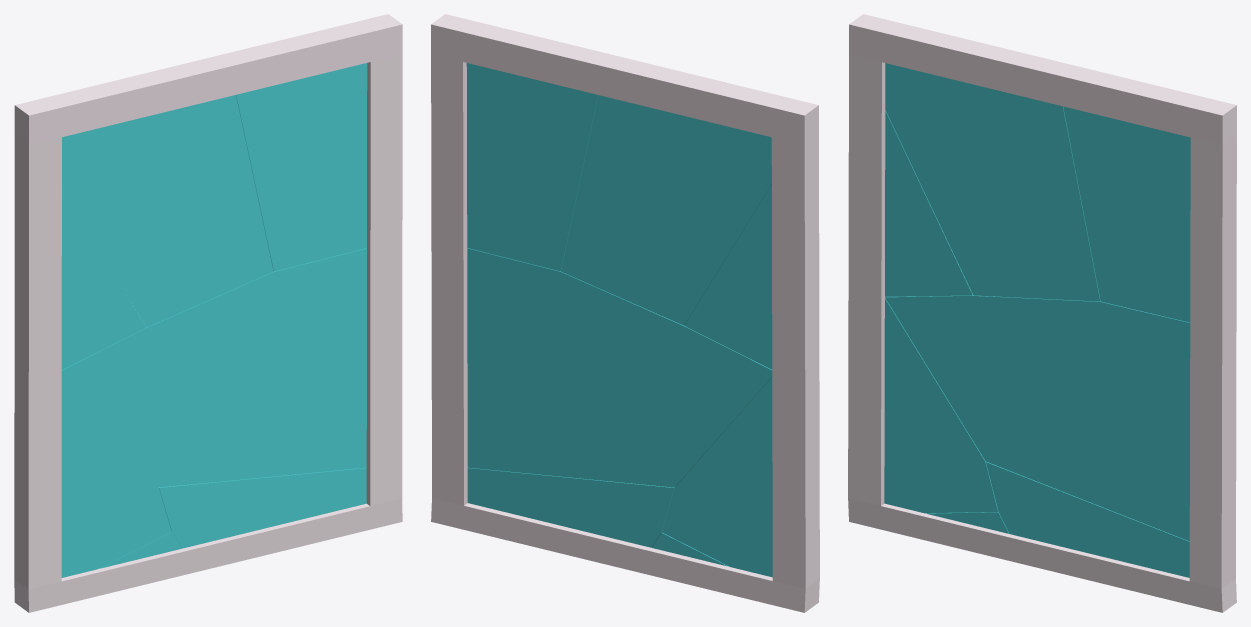
File: WallFullWindolfbx.fbx
The picture shows the model from 3 angles, left to right: view 1: azimuth 30°, elevation 25°; view 2: azimuth 150°, elevation 25°; view 3: azimuth 330°, elevation 25°; orthographic projection.
Parts seen in each view (by area): view 1: Cube, Cube.002_cell.003, Cube.002_cell, Cube.002_cell.001, Cube.002_cell.005, Cube.002_cell.006, Cube.002_cell.004, Cube.002_cell.002; view 2: Cube, Cube.002_cell.003, Cube.002_cell, Cube.002_cell.001, Cube.002_cell.005, Cube.002_cell.006, Cube.002_cell.004, Cube.002_cell.002; view 3: Cube, Cube.002_cell.003, Cube.002_cell, Cube.002_cell.001, Cube.002_cell.005, Cube.002_cell.006, Cube.002_cell.004, Cube.002_cell.002.
Part boxes in pixels (<box>): Cube: <box>14,14,402,612</box>; Cube.002_cell.003: <box>61,248,366,487</box>; Cube.002_cell: <box>62,95,273,327</box>; Cube.002_cell.001: <box>236,63,367,271</box>; Cube.002_cell.005: <box>61,377,171,577</box>; Cube.002_cell.006: <box>158,467,366,548</box>; Cube.002_cell.004: <box>61,191,145,369</box>; Cube.002_cell.002: <box>100,532,182,568</box>; Cube: <box>431,14,819,612</box>; Cube.002_cell.003: <box>467,248,772,487</box>; Cube.002_cell: <box>561,95,771,325</box>; Cube.002_cell.001: <box>466,63,598,271</box>; Cube.002_cell.005: <box>662,377,772,577</box>; Cube.002_cell.006: <box>467,467,674,547</box>; Cube.002_cell.004: <box>684,184,772,369</box>; Cube.002_cell.002: <box>652,532,728,566</box>; Cube: <box>848,14,1236,612</box>; Cube.002_cell.003: <box>885,295,1190,541</box>; Cube.002_cell: <box>885,63,1100,301</box>; Cube.002_cell.001: <box>1063,106,1190,322</box>; Cube.002_cell.005: <box>884,298,998,513</box>; Cube.002_cell.006: <box>986,461,1189,577</box>; Cube.002_cell.004: <box>885,110,972,296</box>; Cube.002_cell.002: <box>926,511,1009,533</box>.
Size of the model in its own units: 200 by 254 by 13.5.
